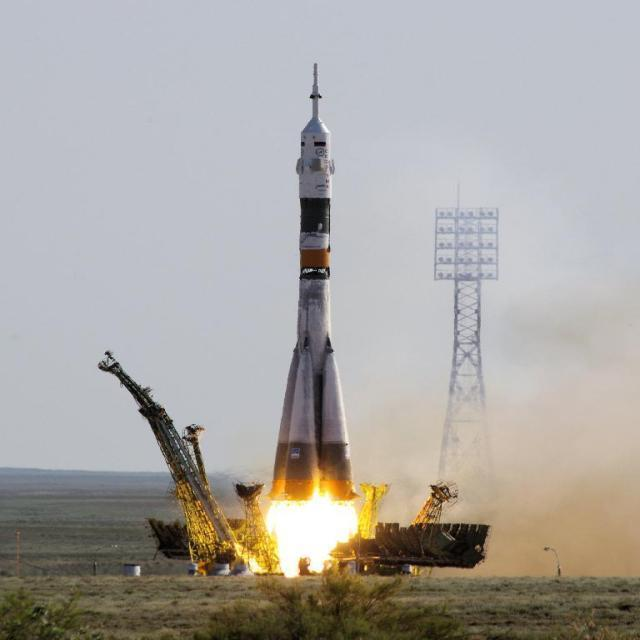Missile: (272, 111, 361, 348)
